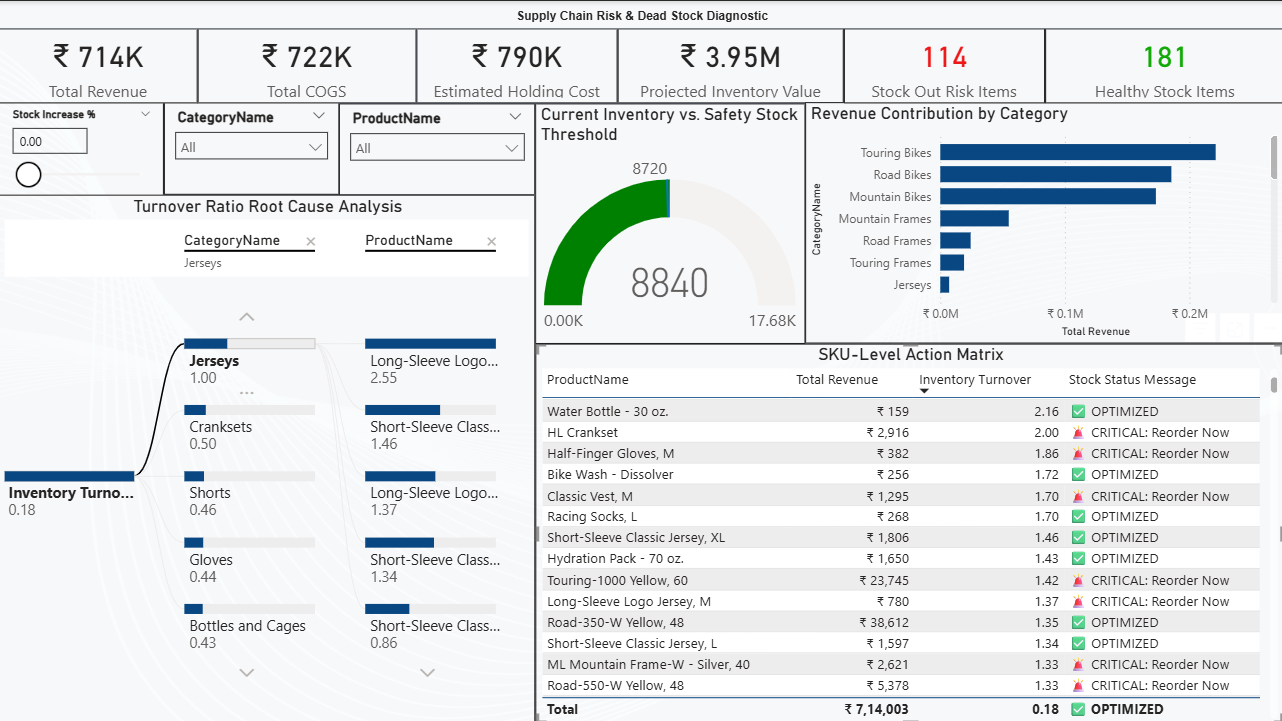

The page's visual inventory and layout, read from the dashboard file:
{"tool":"powerbi","page":{"name":"Page 1","canvas":[1280,720],"ordinal":0},"visuals":[{"type":"tableEx","title":"SKU-Level Action Matrix","fields":{"Values":["vw_InventoryAnalysis.ProductName","vw_InventoryAnalysis.Total Revenue","vw_InventoryAnalysis.Inventory Turnover","_Key Measures.Stock Status Message"]},"box":[533.7,340.8,746.4,379.4],"z":0},{"type":"gauge","title":"Current Inventory vs. Safety Stock Threshold","fields":{"Y":["Sum(vw_InventoryAnalysis.OnHandQty)"],"TargetValue":["Sum(vw_InventoryAnalysis.SafetyStockLevel)"]},"box":[533.7,102,268.7,238.8],"z":1000},{"type":"slicer","fields":{"Values":["Stock Increase %.Stock Increase %"]},"box":[0,100.8,164.2,93.3],"z":2000},{"type":"card","fields":{"Values":["_Key Measures.Projected Inventory Value"]},"box":[615.8,27.9,225.2,74.6],"z":3000},{"type":"card","fields":{"Values":["_Key Measures.Estimated Holding Cost"]},"box":[415.5,27.9,200.3,74.6],"z":4000},{"type":"decompositionTreeVisual","title":"Turnover Ratio Root Cause Analysis","fields":{"Analyze":["vw_InventoryAnalysis.Inventory Turnover"],"ExplainBy":["vw_InventoryAnalysis.CategoryName","vw_InventoryAnalysis.ProductName"]},"box":[0,192.8,533.7,526.2],"z":5000},{"type":"slicer","fields":{"Values":["vw_InventoryAnalysis.CategoryName"]},"box":[164.2,100.8,174.2,92.1],"z":6000},{"type":"card","fields":{"Values":["vw_InventoryAnalysis.Total Revenue"]},"box":[0,27.9,197.8,74.6],"z":7000},{"type":"card","fields":{"Values":["vw_InventoryAnalysis.Total COGS"]},"box":[197.8,27.9,217.7,74.6],"z":8000},{"type":"barChart","title":"Revenue Contribution by Category","fields":{"Y":["vw_InventoryAnalysis.Total Revenue"],"Category":["vw_InventoryAnalysis.CategoryName"]},"box":[802.4,100.8,477.7,240.1],"z":9000},{"type":"slicer","fields":{"Values":["vw_InventoryAnalysis.ProductName"]},"box":[338.4,102,195.3,90.8],"z":10000},{"type":"card","fields":{"Values":["_Key Measures.Healthy Stock Items"]},"box":[1041.2,27.4,238.8,74.6],"z":11000},{"type":"card","fields":{"Values":["_Key Measures.Stock-Out Risk Items"]},"box":[840.9,27.4,200.3,74.6],"z":12000},{"type":"textbox","box":[0,0,1280,27.4],"z":13000}]}

Visuals, with their boxes in screenshot pixels (x1, y1, x2, y2), scaled from the page's 1280x720 canvas onto the 1282x721 screenshot:
"SKU-Level Action Matrix" tableEx: <bbox>535, 341, 1281, 720</bbox>
"Current Inventory vs. Safety Stock Threshold" gauge: <bbox>535, 102, 804, 341</bbox>
slicer - Stock Increase %.Stock Increase %: <bbox>0, 101, 164, 194</bbox>
card - _Key Measures.Projected Inventory Value: <bbox>617, 28, 842, 103</bbox>
card - _Key Measures.Estimated Holding Cost: <bbox>416, 28, 617, 103</bbox>
"Turnover Ratio Root Cause Analysis" decompositionTreeVisual: <bbox>0, 193, 535, 720</bbox>
slicer - vw_InventoryAnalysis.CategoryName: <bbox>164, 101, 339, 193</bbox>
card - vw_InventoryAnalysis.Total Revenue: <bbox>0, 28, 198, 103</bbox>
card - vw_InventoryAnalysis.Total COGS: <bbox>198, 28, 416, 103</bbox>
"Revenue Contribution by Category" barChart: <bbox>804, 101, 1281, 341</bbox>
slicer - vw_InventoryAnalysis.ProductName: <bbox>339, 102, 535, 193</bbox>
card - _Key Measures.Healthy Stock Items: <bbox>1043, 27, 1281, 102</bbox>
card - _Key Measures.Stock-Out Risk Items: <bbox>842, 27, 1043, 102</bbox>
textbox: <bbox>0, 0, 1281, 27</bbox>
